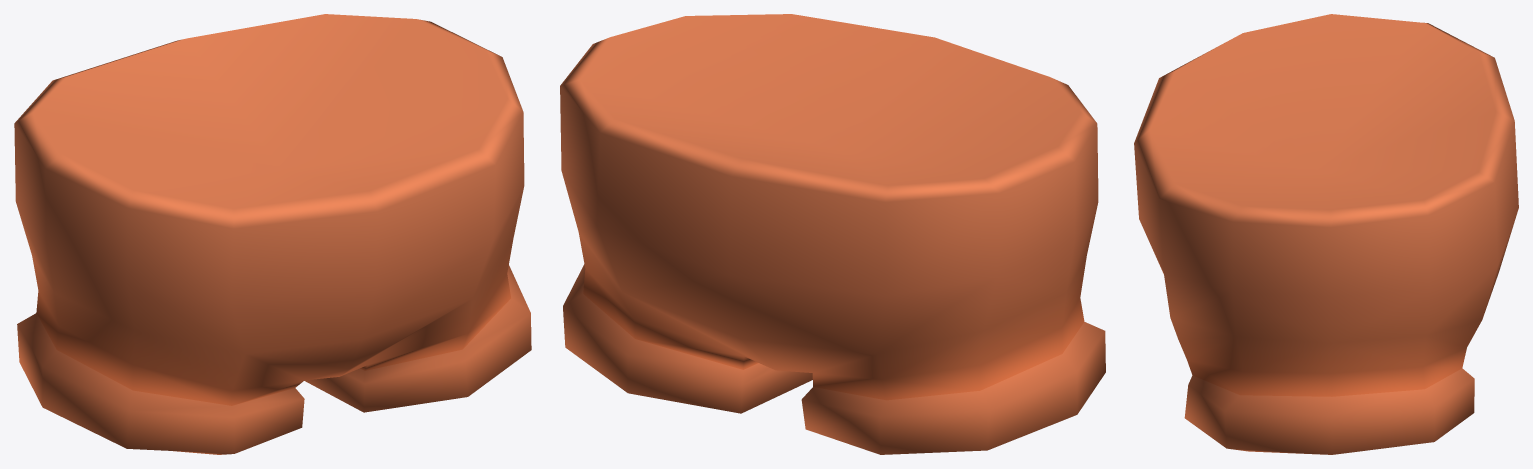
Rendered from Bottom_5.fbx.
3 renders of one model, left to right at view 1: azimuth 30°, elevation 25°; view 2: azimuth 150°, elevation 25°; view 3: azimuth 270°, elevation 25°, orthographic. The views are drawn at different scales.
Parts seen in each view (by area): view 1: Bottom_5; view 2: Bottom_5; view 3: Bottom_5.
Part boxes in pixels (bbox=[...]): Bottom_5: bbox=[14, 14, 531, 454]; Bottom_5: bbox=[560, 14, 1105, 454]; Bottom_5: bbox=[1134, 14, 1518, 454].
Size of the model in its own units: 38.94 by 22.89 by 29.68.
